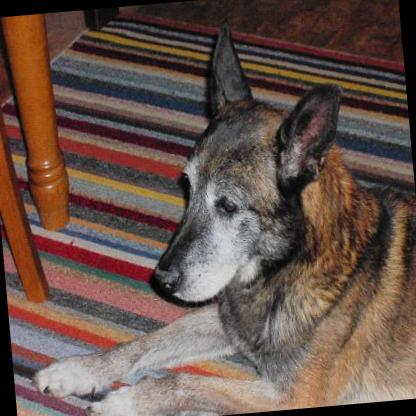malinois: (3, 3, 416, 416)
